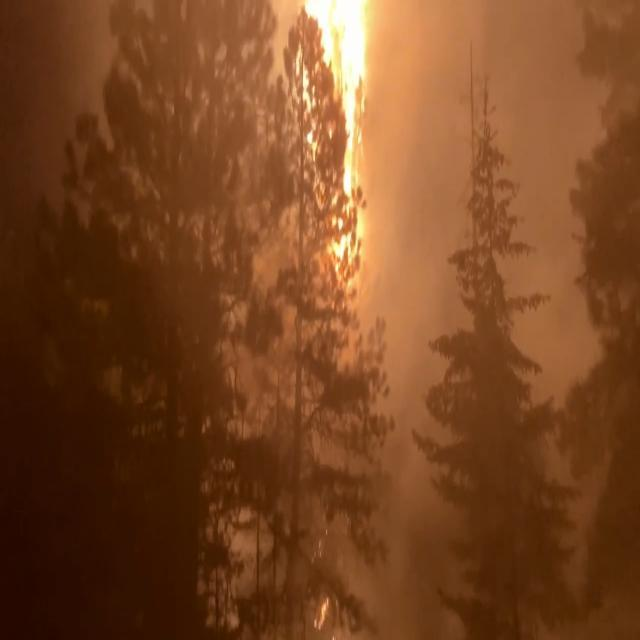Fire: (294, 0, 368, 277)
